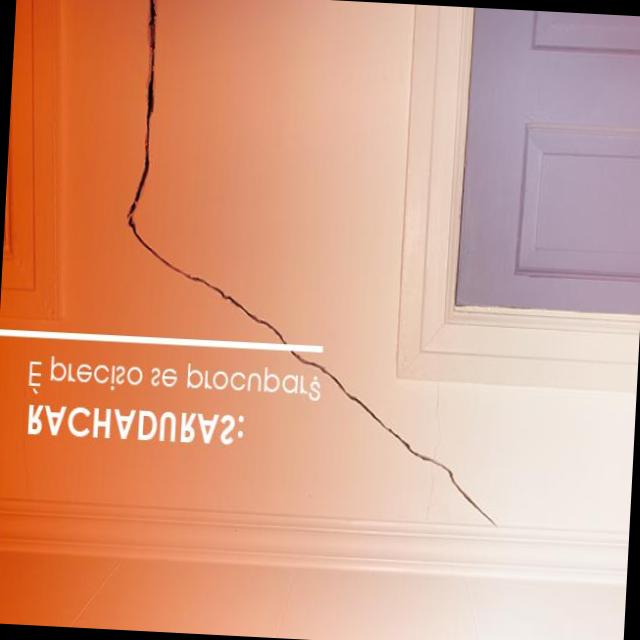crack: (125, 0, 499, 539)
